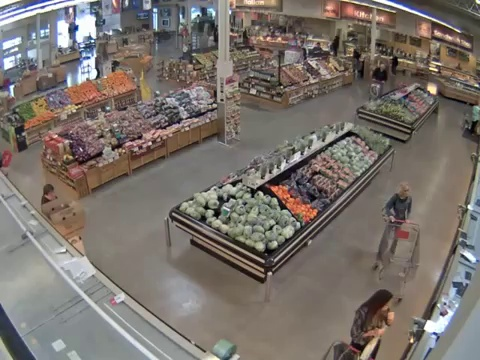face: (402, 186, 410, 197)
